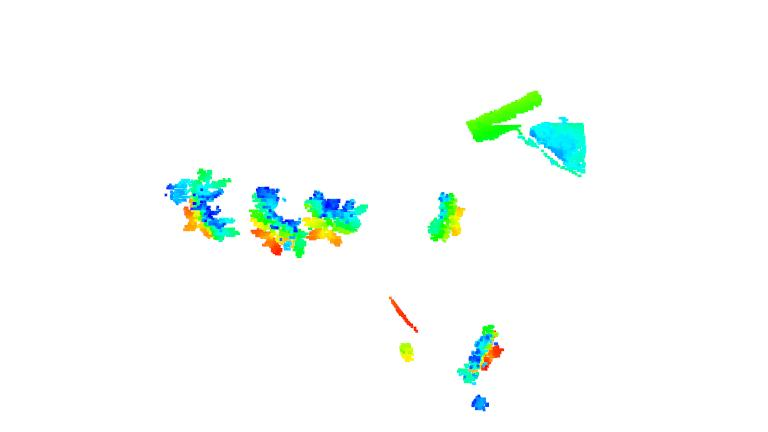chickpea: (161, 166, 245, 244), (242, 183, 308, 259), (297, 190, 369, 246), (453, 324, 502, 385), (423, 191, 468, 244)
